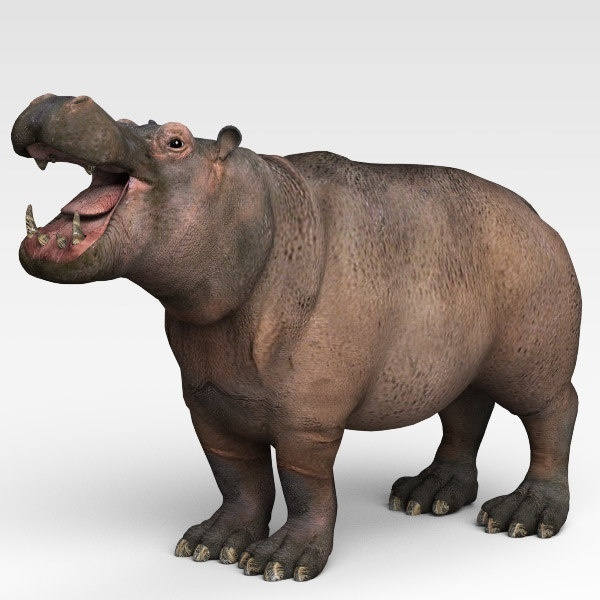hipopotamo: (4, 48, 593, 588)
